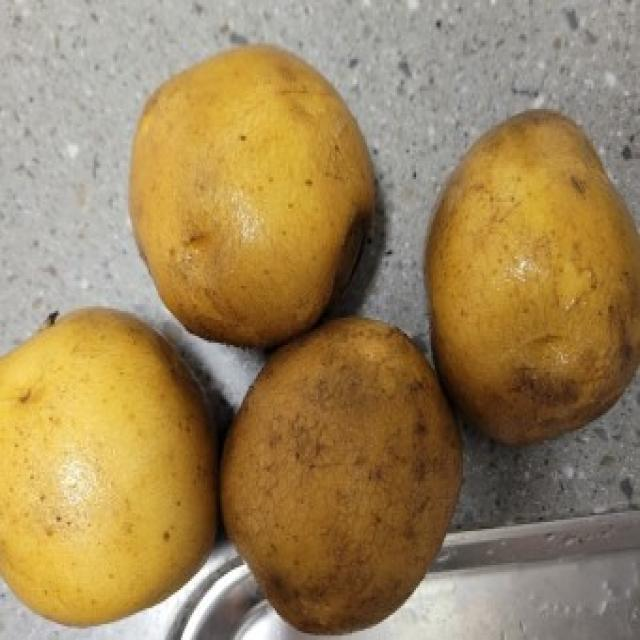potato: (220, 308, 468, 633), (124, 42, 376, 348), (417, 104, 640, 439), (1, 297, 224, 630)
